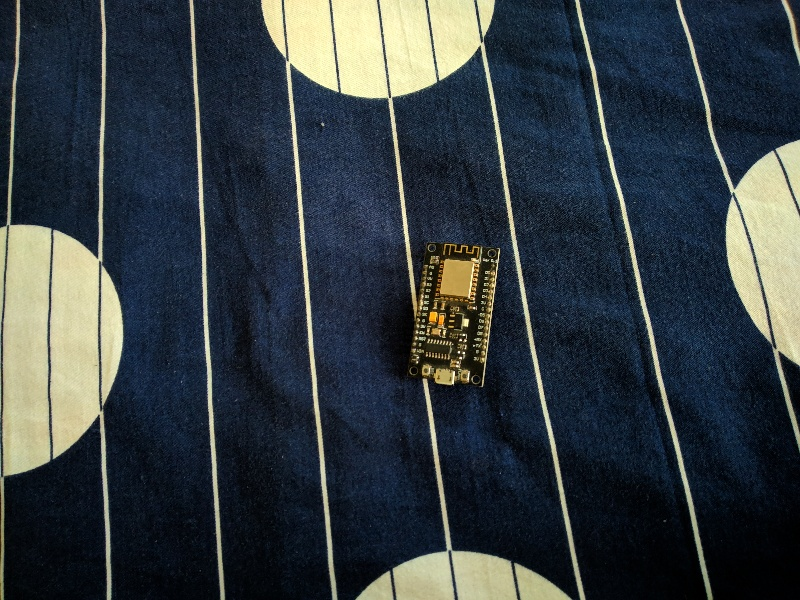NodeMCU: (400, 234, 504, 401)
